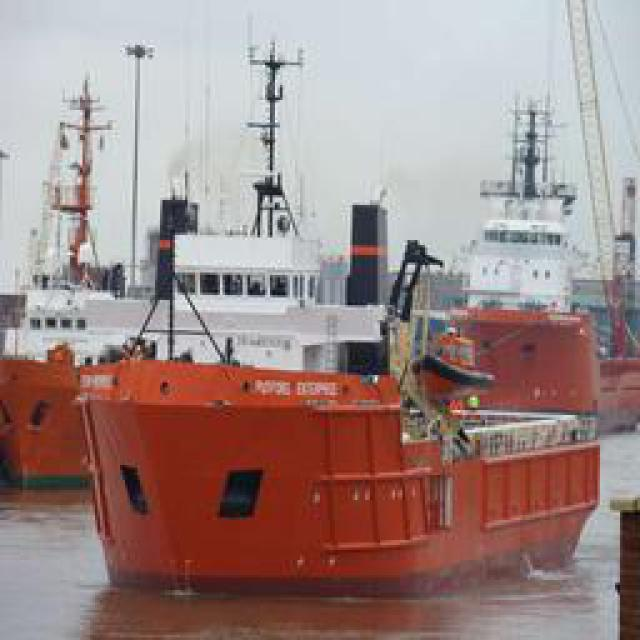Ship: (66, 100, 609, 585)
